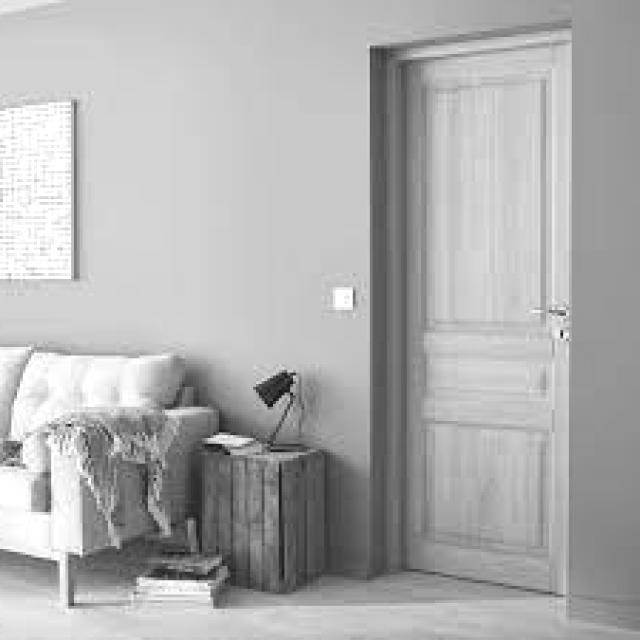door: (362, 10, 584, 618)
